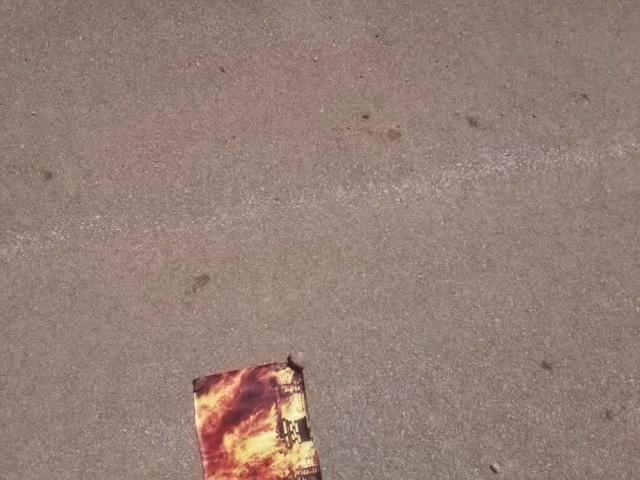fire-poster: (189, 352, 325, 479)
